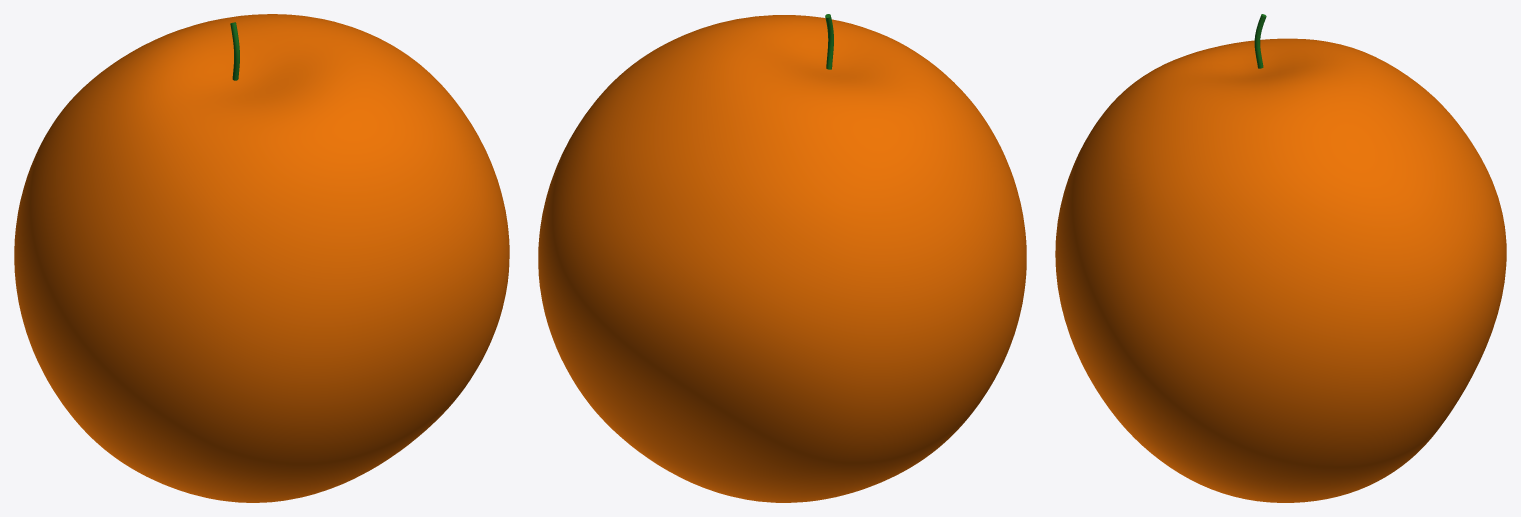
File: orange.fbx
3 views of the same model, side by side, from view 1: azimuth 30°, elevation 25°; view 2: azimuth 150°, elevation 25°; view 3: azimuth 270°, elevation 25° (orthographic). The views are drawn at different scales.
Parts seen in each view (by area): view 1: Cube; view 2: Cube; view 3: Cube.
Part boxes in pixels (box(x1,y1,x2,y2)): Cube: box(14, 14, 509, 502); Cube: box(538, 15, 1026, 502); Cube: box(1055, 38, 1506, 502).
Size of the model in its own units: 16.98 by 17.98 by 16.37.
